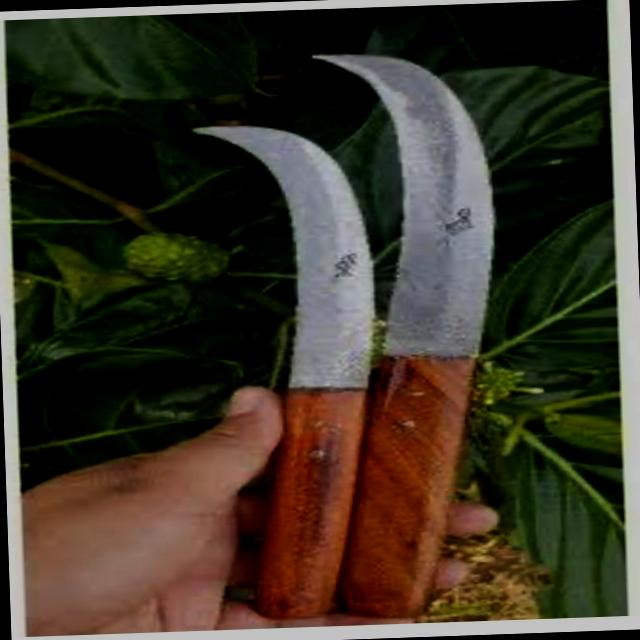knife: (156, 30, 532, 628)
